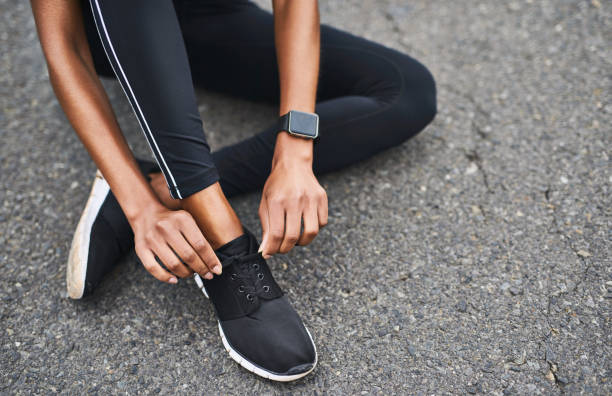Footwear: (184, 221, 323, 388)
